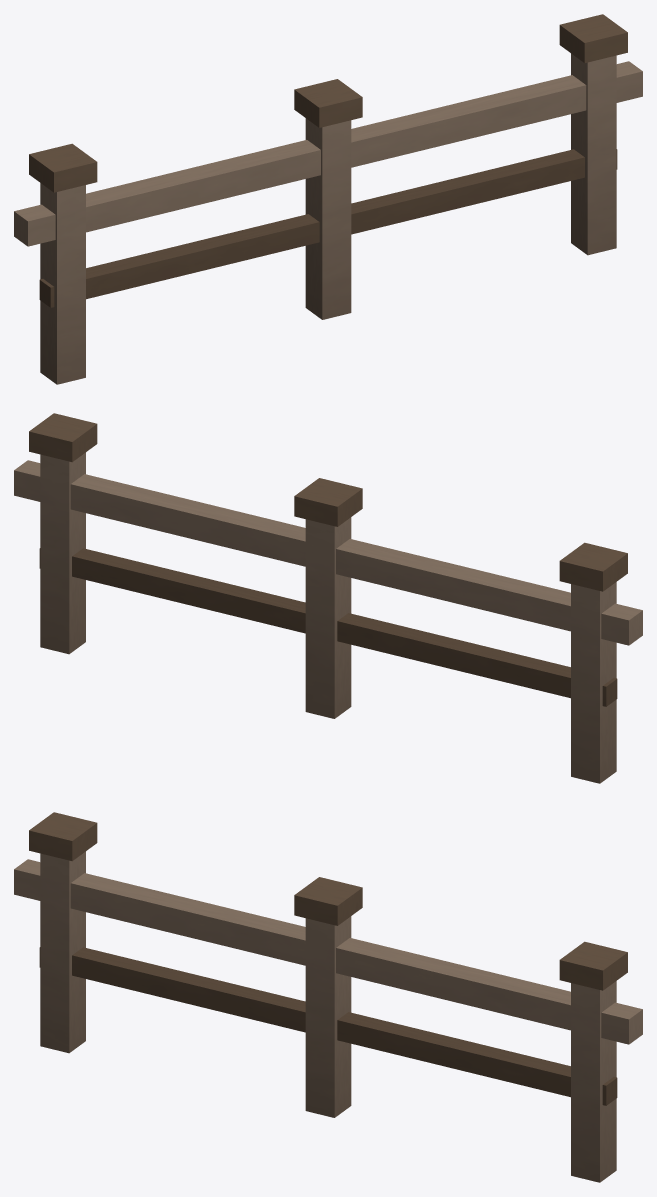
Rendered from hitching_rail.glb.
3 views of the same model, one above another, from view 1: azimuth 30°, elevation 25°; view 2: azimuth 150°, elevation 25°; view 3: azimuth 330°, elevation 25° (orthographic).
Parts seen in each view (by area): view 1: hitching_rail; view 2: hitching_rail; view 3: hitching_rail.
Part boxes in pixels (<box>): hitching_rail: <box>14,14,642,384</box>; hitching_rail: <box>14,413,642,783</box>; hitching_rail: <box>14,812,642,1182</box>.
Bounding box in the file's own units: 2.55 × 0.86 × 0.18.
Materials: 1 (1 with a texture image).
